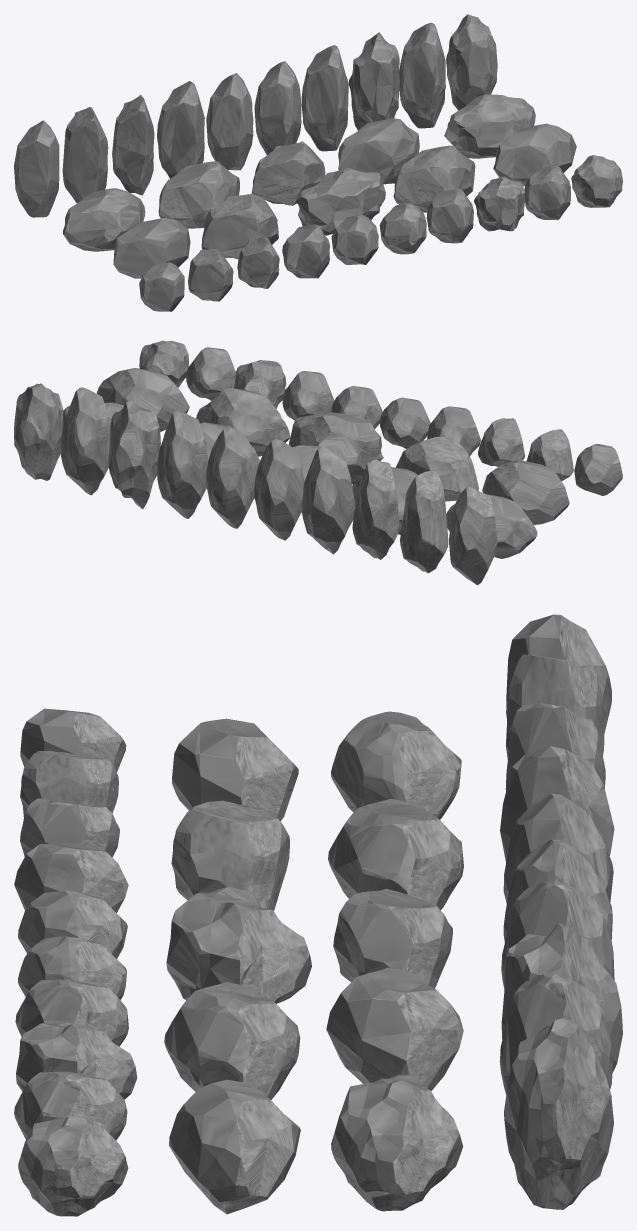
File: WhiteRocks.fbx
3 views of the same model, one above another, from view 1: azimuth 30°, elevation 25°; view 2: azimuth 150°, elevation 25°; view 3: azimuth 270°, elevation 25° (orthographic). The views are drawn at different scales.
Visible parts, largest first — view 1: Cube.030, Cube.028, Cube.017, Cube.019, Cube.026, Cube.018, Cube.020, Cube.027, Cube.015, Cube.024, Cube.029, Cube.012 (+18 smaller); view 2: Cube.018, Cube.014, Cube.017, Cube.019, Cube.020, Cube.009, Cube.016, Cube.015, Cube.012, Cube.028, Cube.013, Cube.022 (+17 smaller); view 3: Cube.020, Cube.030, Cube.025, Cube.024, Cube.028, Cube.029, Cube.027, Cube.026, Cube.021, Cube.022, Cube.023, Cube.008 (+18 smaller).
Boxes of the visible parts, x1,y1,x2,y2 form: Cube.030: (444, 94, 535, 158); Cube.028: (297, 167, 385, 235); Cube.017: (301, 45, 348, 151); Cube.019: (399, 22, 445, 128); Cube.026: (63, 188, 145, 251); Cube.018: (348, 32, 399, 130); Cube.020: (446, 14, 497, 110); Cube.027: (158, 161, 239, 228); Cube.015: (206, 73, 253, 170); Cube.024: (338, 118, 419, 184); Cube.029: (393, 145, 475, 212); Cube.012: (14, 120, 59, 217); Cube.018: (108, 401, 160, 509); Cube.014: (301, 446, 355, 554); Cube.017: (157, 410, 208, 518); Cube.019: (60, 387, 110, 495); Cube.020: (14, 383, 63, 480); Cube.009: (400, 470, 448, 573); Cube.016: (206, 427, 256, 528); Cube.015: (254, 439, 304, 540); Cube.012: (449, 487, 497, 585); Cube.028: (289, 412, 383, 484); Cube.013: (352, 459, 399, 559); Cube.022: (482, 460, 569, 524); Cube.020: (504, 1018, 613, 1209); Cube.030: (331, 1074, 463, 1211); Cube.025: (169, 1079, 300, 1214); Cube.024: (326, 967, 463, 1091); Cube.028: (166, 886, 311, 1003); Cube.029: (164, 982, 300, 1099); Cube.027: (328, 799, 463, 909); Cube.026: (331, 711, 461, 819); Cube.021: (171, 800, 289, 910); Cube.022: (171, 718, 298, 820); Cube.023: (333, 888, 452, 988); Cube.008: (18, 1115, 128, 1216).
Size of the model in its own units: 1993 by 431 by 1128.
Materials: 2 (2 with a texture image).
